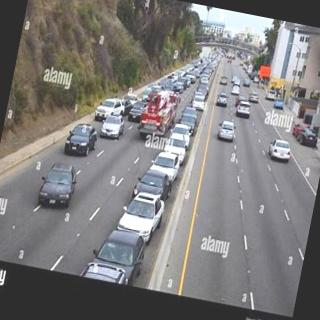Fire_truck: (135, 85, 181, 143)
